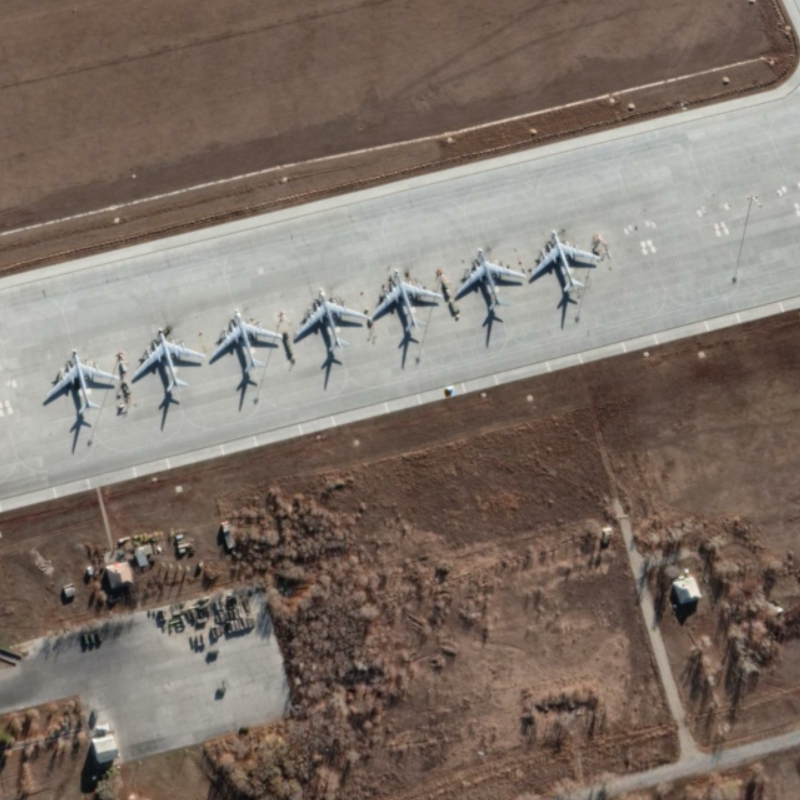A17: (42, 347, 121, 416), (295, 286, 370, 355), (132, 326, 207, 393), (370, 267, 445, 334), (209, 308, 285, 374), (530, 228, 602, 294), (454, 247, 527, 312)
